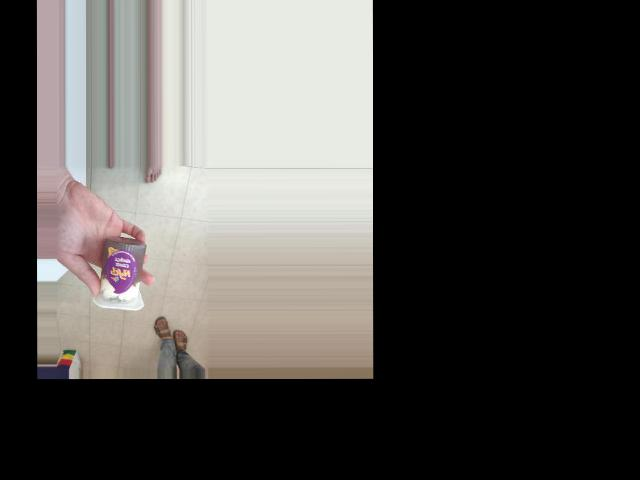milky: (101, 226, 145, 309)
